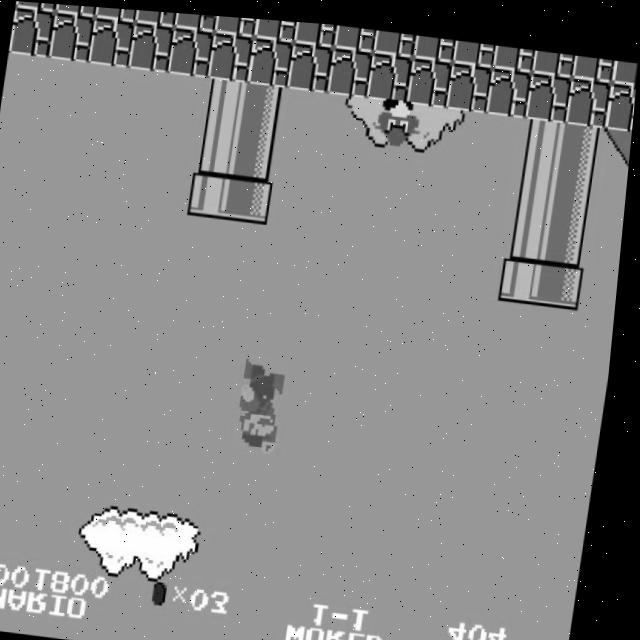0- big_mario: (238, 354, 293, 453)
14- pipe: (196, 120, 243, 171), (236, 124, 283, 175), (242, 79, 289, 130), (520, 110, 567, 161), (554, 160, 601, 211), (202, 75, 249, 125), (515, 156, 562, 206), (560, 115, 607, 165), (509, 202, 556, 251), (549, 206, 595, 256)
15- pipe_head: (503, 246, 550, 297), (191, 166, 237, 216), (543, 251, 589, 301), (231, 171, 277, 220)
17- undestructible_block: (128, 20, 175, 71), (248, 33, 295, 84), (486, 60, 533, 111), (168, 25, 215, 75), (208, 29, 255, 79), (367, 47, 414, 97), (526, 65, 573, 115), (566, 69, 613, 119), (10, 7, 56, 58), (288, 38, 334, 89), (328, 42, 374, 93), (407, 51, 453, 102), (447, 55, 493, 106), (49, 12, 95, 62), (89, 16, 135, 66), (605, 74, 637, 123), (373, 24, 417, 52), (532, 42, 576, 70), (572, 46, 616, 74), (333, 20, 377, 47), (413, 29, 457, 56), (453, 33, 497, 60), (492, 38, 536, 65), (293, 17, 337, 43), (253, 15, 297, 38), (214, 13, 257, 34), (174, 10, 217, 30), (134, 8, 177, 25), (611, 52, 639, 77), (94, 6, 137, 21), (54, 3, 97, 17), (15, 1, 57, 11)
8- goomba: (373, 91, 423, 144)
